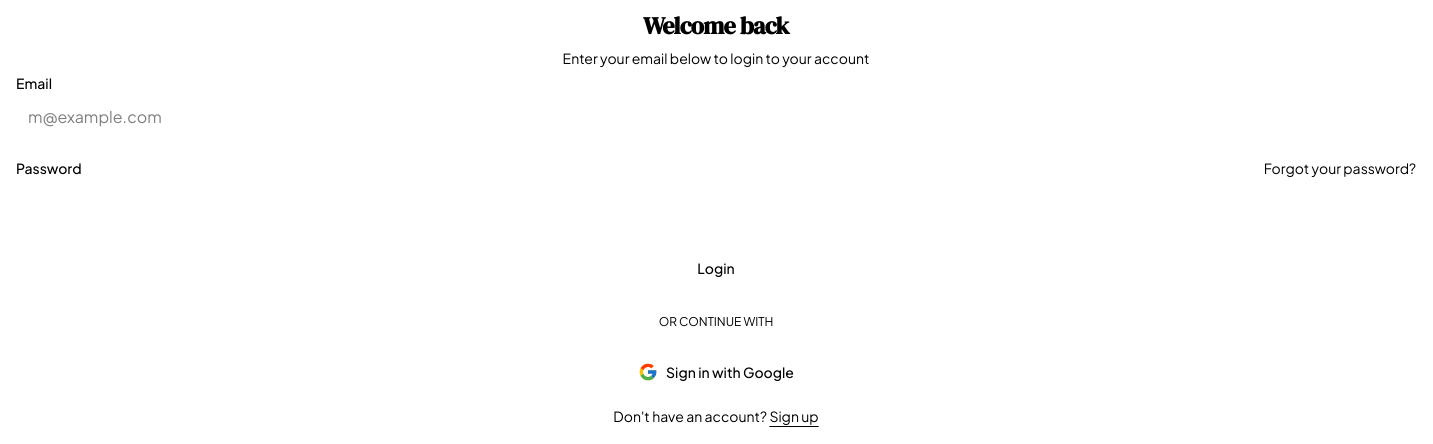
Test: LoginForm › Google OAuth › should show loading state during OAuth redirect
Click the button "Sign in with Google" at coordinates (716, 372), box [16,354,1416,390]
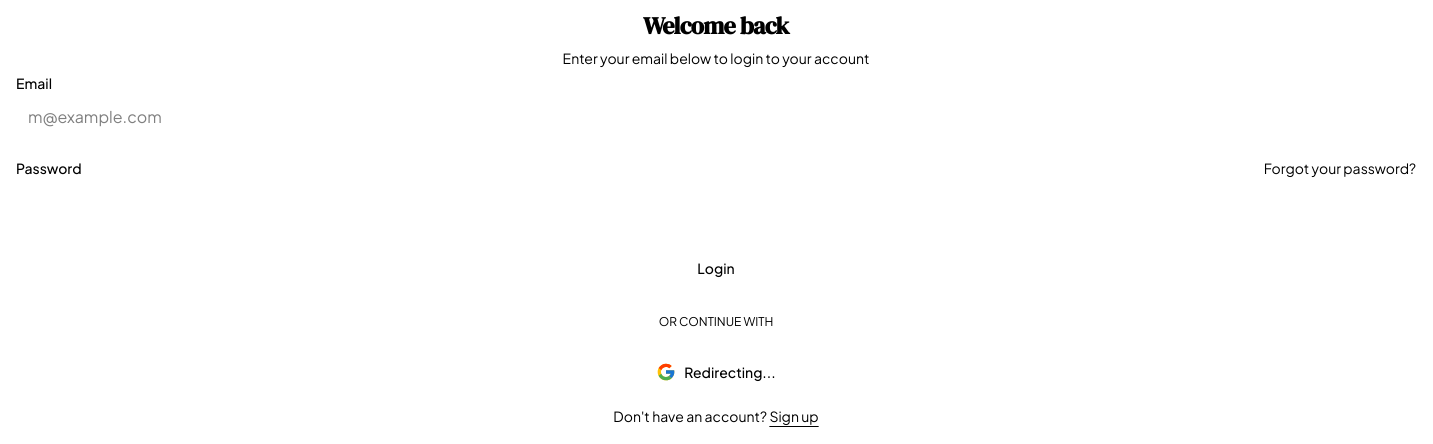
Check: the button "Redirecting..." is disabled, box [16,354,1416,390]
